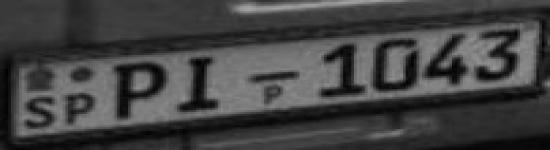-: (246, 67, 302, 86)
0: (367, 36, 422, 94)
1: (318, 40, 369, 100)
3: (471, 26, 524, 85)
4: (422, 30, 473, 87)
I: (173, 52, 225, 115)
P: (107, 61, 171, 121), (62, 90, 99, 128)
S: (25, 94, 57, 129)
